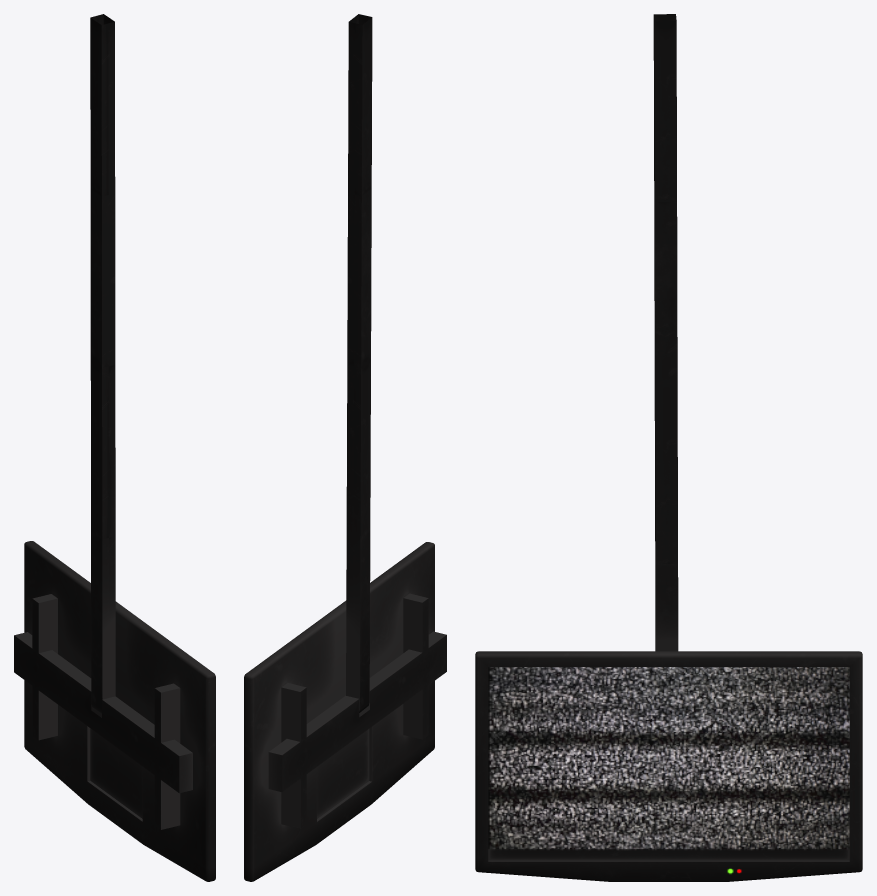
File: hanging_security_tv.glb
3 renders of one model, left to right at view 1: azimuth 30°, elevation 25°; view 2: azimuth 150°, elevation 25°; view 3: azimuth 270°, elevation 25°, orthographic. The views are drawn at different scales.
Parts seen in each view (by area): view 1: SM_TV_base, TV_Pole, SM_TV; view 2: SM_TV_base, TV_Pole, SM_TV; view 3: SM_TV_base, TV_Pole.
Part boxes in pixels (<box>): SM_TV_base: <box>24,541,215,881</box>; TV_Pole: <box>90,14,115,713</box>; SM_TV: <box>14,594,192,829</box>; SM_TV_base: <box>244,542,434,881</box>; TV_Pole: <box>346,14,372,712</box>; SM_TV: <box>268,593,446,828</box>; SM_TV_base: <box>475,651,862,881</box>; TV_Pole: <box>653,14,678,651</box>.
Size of the model in its own units: 0.0959 by 2.37 by 0.9757.
1 material, 1 textured.
